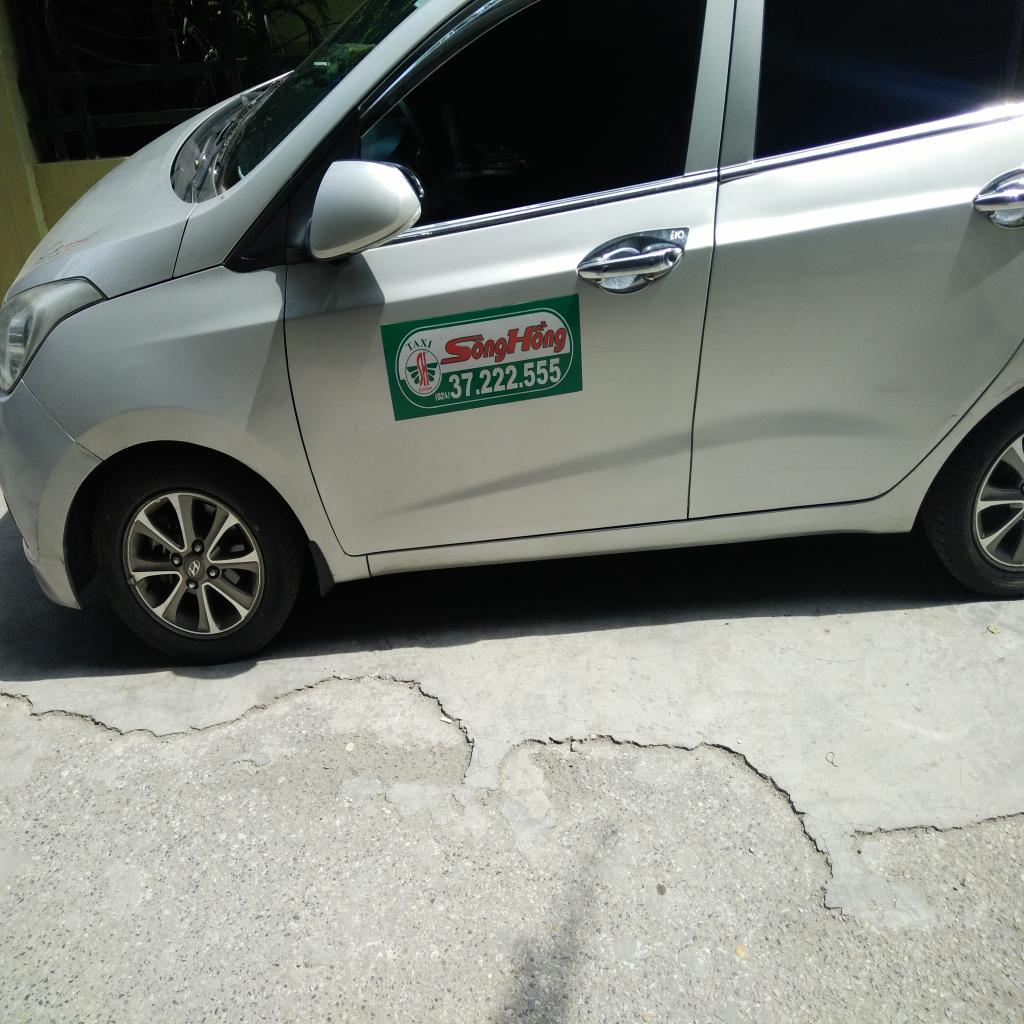text: (438, 326, 508, 373), (507, 315, 568, 362), (403, 335, 434, 355), (434, 390, 452, 404), (416, 384, 433, 394)
